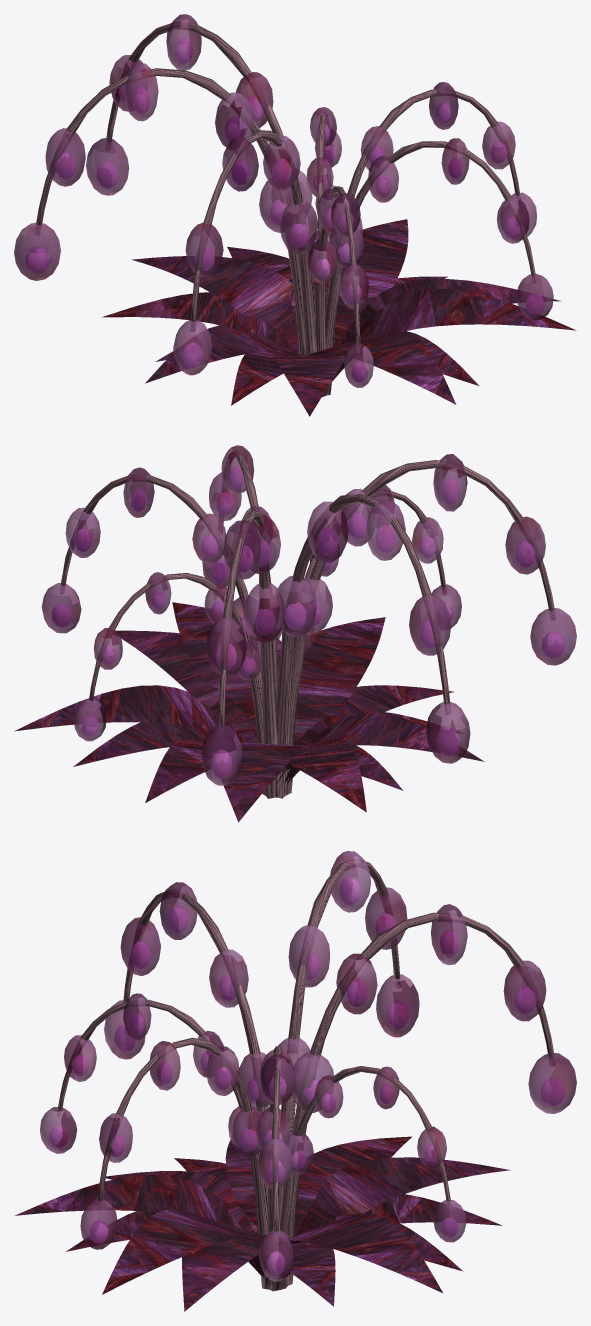
File: bladder_03.glb
3 renders of one model, top to bottom at view 1: azimuth 30°, elevation 25°; view 2: azimuth 150°, elevation 25°; view 3: azimuth 270°, elevation 25°, orthographic. The views are drawn at different scales.
Parts seen in each view (by area): view 1: export; view 2: export; view 3: export.
Boxes of the visible parts, x1,y1,x2,y2 form: export: [14, 14, 576, 416]; export: [14, 445, 576, 822]; export: [14, 851, 576, 1311].
Bounding box in the file's own units: 1.6 × 1.11 × 1.58.
4 materials, 4 textured.
